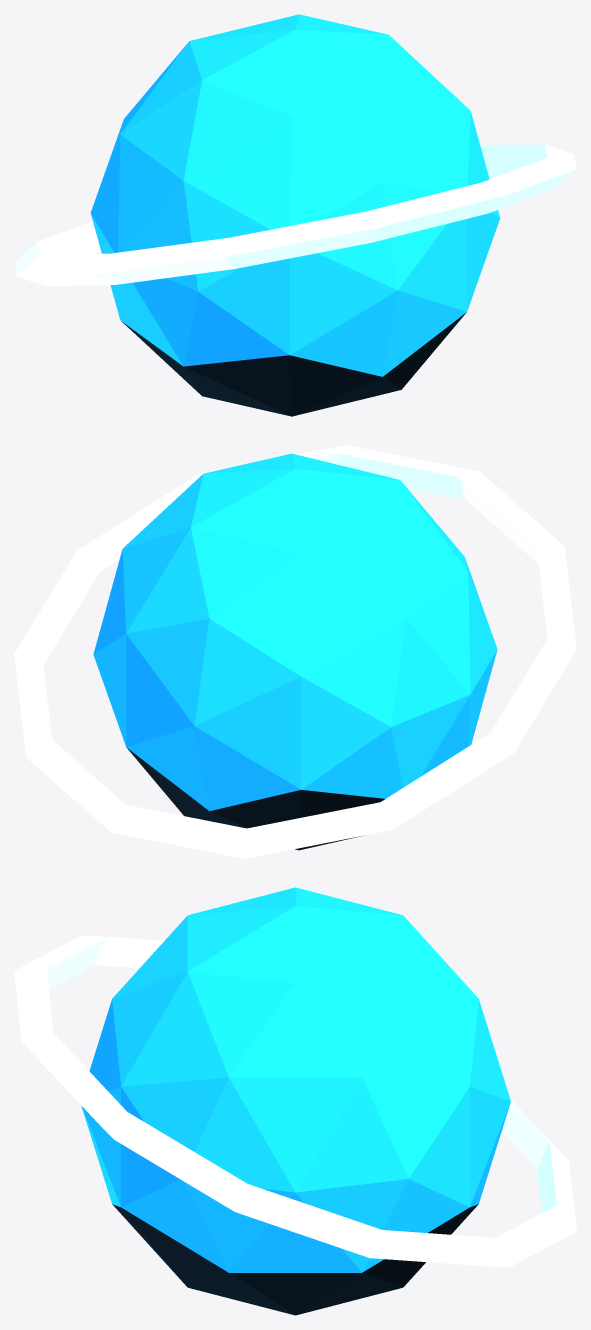
Rendered from Loot_XpOrb.fbx.
3 views of the same model, one above another, from view 1: azimuth 30°, elevation 25°; view 2: azimuth 150°, elevation 25°; view 3: azimuth 270°, elevation 25° (orthographic). The views are drawn at different scales.
Visible parts, largest first — view 1: Loot_XpOrb; view 2: Loot_XpOrb; view 3: Loot_XpOrb.
Part boxes in pixels (x1,y1,x2,y2): Loot_XpOrb: [14, 14, 576, 416]; Loot_XpOrb: [14, 445, 576, 858]; Loot_XpOrb: [14, 887, 576, 1315].
Size of the model in its own units: 0.2817 by 0.2 by 0.2612.
